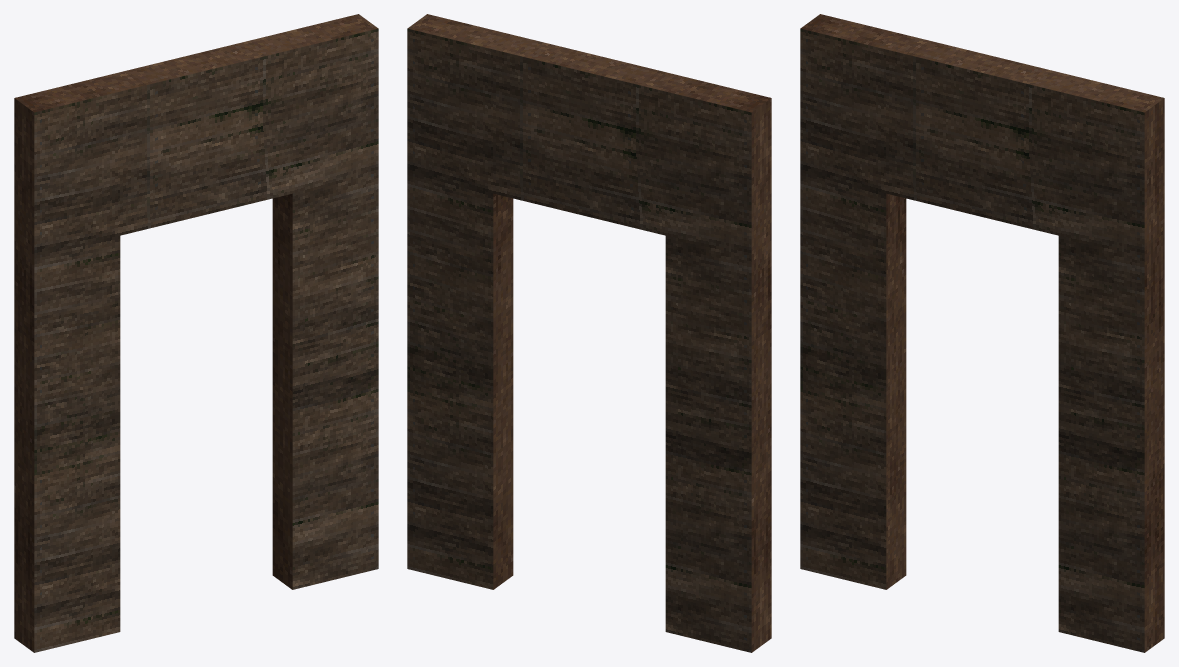
File: door_single_frame.glb
3 renders of one model, left to right at view 1: azimuth 30°, elevation 25°; view 2: azimuth 150°, elevation 25°; view 3: azimuth 330°, elevation 25°, orthographic.
Parts seen in each view (by area): view 1: door_single_frame2; view 2: door_single_frame2; view 3: door_single_frame2.
Part boxes in pixels (x1=…): door_single_frame2: x1=14, y1=14, x2=378, y2=652; door_single_frame2: x1=407, y1=14, x2=771, y2=652; door_single_frame2: x1=800, y1=14, x2=1164, y2=652.
Bounding box in the file's own units: 2 × 3 × 0.2.
Materials: 1 (1 with a texture image).
